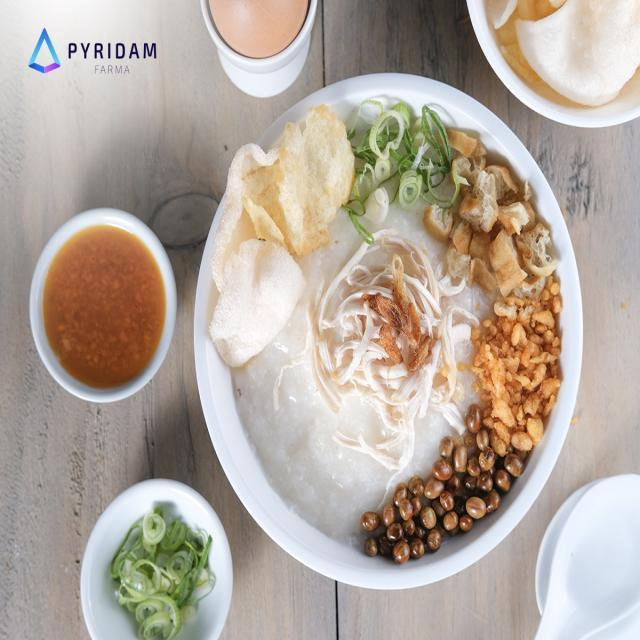bubur ayam: (208, 97, 564, 568)
mangkuk: (193, 38, 586, 594), (29, 207, 178, 405), (80, 478, 234, 637), (466, 1, 640, 130)
sambal: (43, 222, 166, 392)
